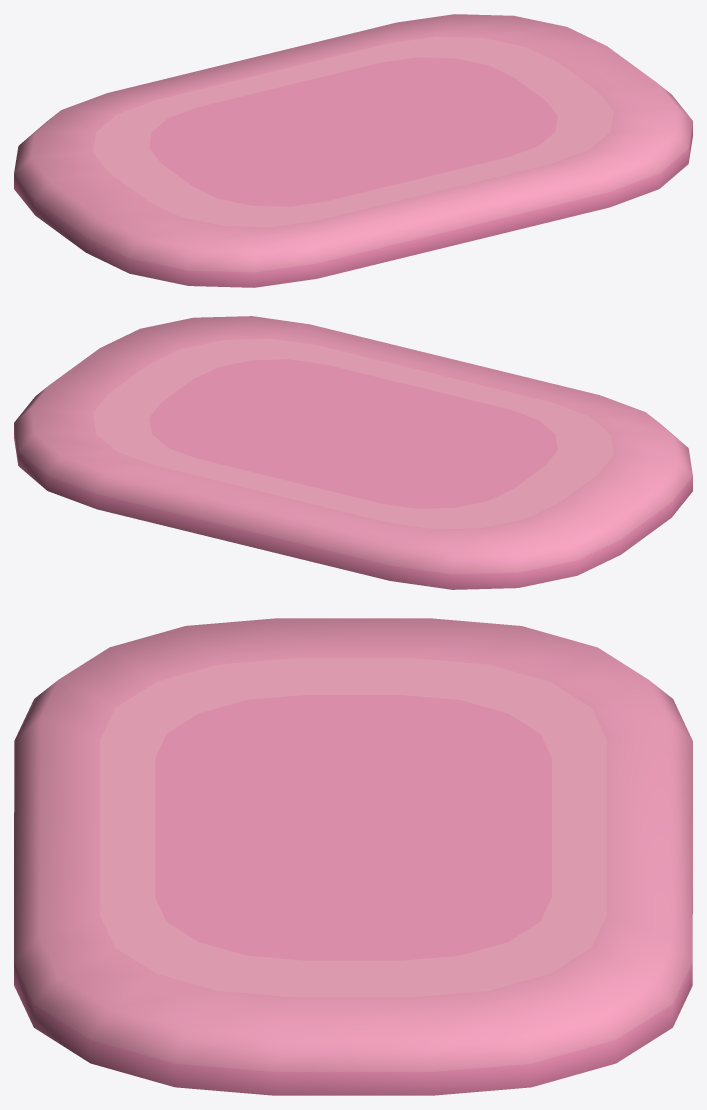
3 renders of one model, top to bottom at view 1: azimuth 30°, elevation 25°; view 2: azimuth 150°, elevation 25°; view 3: azimuth 270°, elevation 25°, orthographic. The views are drawn at different scales.
Visible parts, largest first — view 1: mat; view 2: mat; view 3: mat.
Part boxes in pixels (box(x1,y1,x2,y2)): mat: box(14, 14, 692, 287); mat: box(14, 316, 692, 589); mat: box(14, 618, 692, 1095).
Size of the model in its own units: 200 by 10 by 130.
